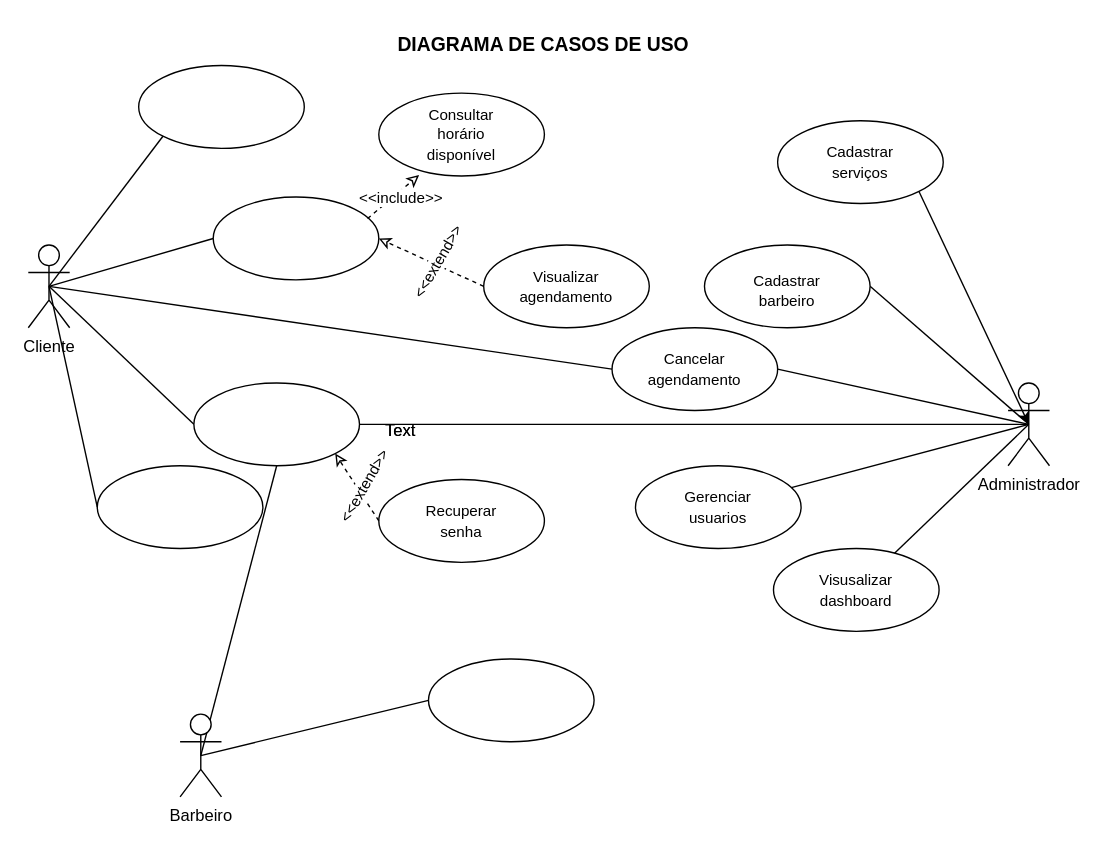
The diagram is 1104 pixels wide and 849 high, and some of its shapes have lost their labels. The shapes that lost their labels are listed below. From the top down, each one's centre as x and y in pixels, then its label:
(220,106): Realizar cadastro
(295,238): Realizar agendamento
(276,424): Realizar login
(179,506): Consultar serviços
(510,700): Visusalizar agenda
